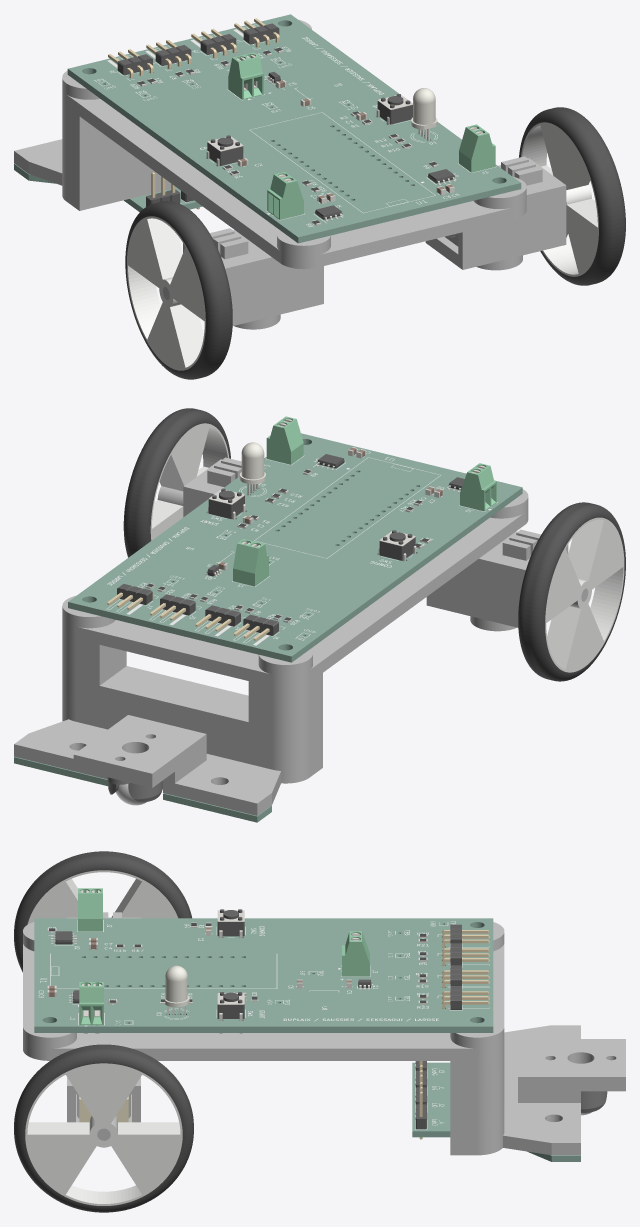
Rendered from robot_labyrinthe.glb.
3 views of the same model, one above another, from view 1: azimuth 30°, elevation 25°; view 2: azimuth 150°, elevation 25°; view 3: azimuth 270°, elevation 25° (orthographic).
Visible parts, largest first — view 1: Node13, Node11, Node18, Node17, Node5, Node7, Node1, Node4, Node8, Node3, Node12; view 2: Node11, Node13, Node18, Node17, Node5, Node7, Node1, Node4, Node3, Node8, Node14; view 3: Node13, Node11, Node18, Node17, Node5, Node7, Node1, Node8, Node4, Node3, Node14.
Part boxes in pixels (<box>): Node13: <box>14,14,521,243</box>; Node11: <box>14,19,566,329</box>; Node18: <box>127,122,598,370</box>; Node17: <box>125,107,625,379</box>; Node5: <box>228,52,495,219</box>; Node7: <box>117,23,412,206</box>; Node1: <box>93,24,496,227</box>; Node4: <box>137,47,484,225</box>; Node8: <box>108,18,279,209</box>; Node3: <box>137,49,437,225</box>; Node12: <box>268,72,454,219</box>; Node11: <box>14,457,588,815</box>; Node13: <box>14,433,522,822</box>; Node18: <box>150,423,624,672</box>; Node17: <box>123,408,625,681</box>; Node5: <box>233,416,496,586</box>; Node7: <box>117,488,415,635</box>; Node1: <box>106,449,497,805</box>; Node4: <box>145,419,485,622</box>; Node3: <box>150,442,427,622</box>; Node8: <box>107,592,279,640</box>; Node14: <box>107,777,162,801</box>; Node13: <box>34,918,580,1161</box>; Node11: <box>23,912,625,1155</box>; Node18: <box>25,870,182,1205</box>; Node17: <box>14,851,193,1212</box>; Node5: <box>78,888,369,1025</box>; Node7: <box>217,909,461,1129</box>; Node1: <box>38,919,591,1115</box>; Node8: <box>419,930,488,1139</box>; Node4: <box>47,890,427,1033</box>; Node3: <box>48,931,427,1007</box>; Node14: <box>581,1091,607,1112</box>.
Bounding box in the file's own units: 107 × 46.38 × 136.
